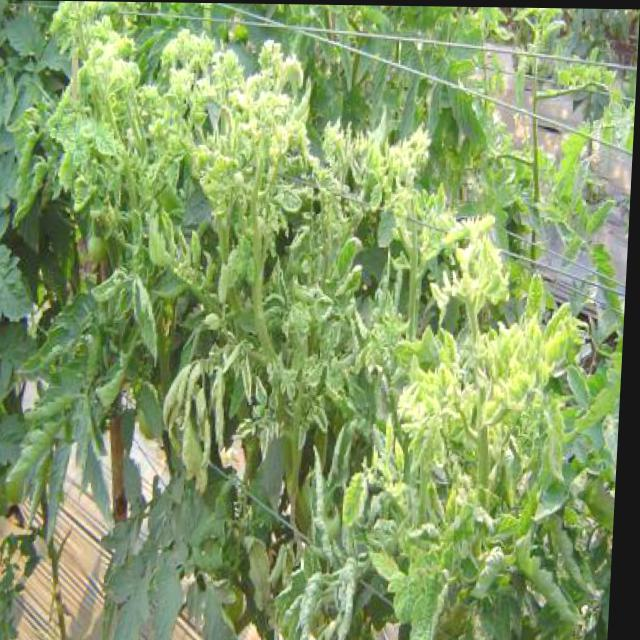Tomato healthy leaf: (216, 225, 264, 299), (411, 571, 459, 639), (132, 278, 165, 362), (346, 467, 373, 522), (416, 374, 438, 434), (334, 238, 362, 284), (545, 318, 568, 372), (518, 325, 535, 397), (70, 179, 106, 212), (252, 373, 272, 432), (312, 293, 339, 324), (449, 366, 467, 411), (309, 360, 330, 392), (303, 409, 312, 468), (317, 407, 333, 435), (290, 376, 302, 406), (490, 342, 501, 367), (276, 387, 284, 420)
